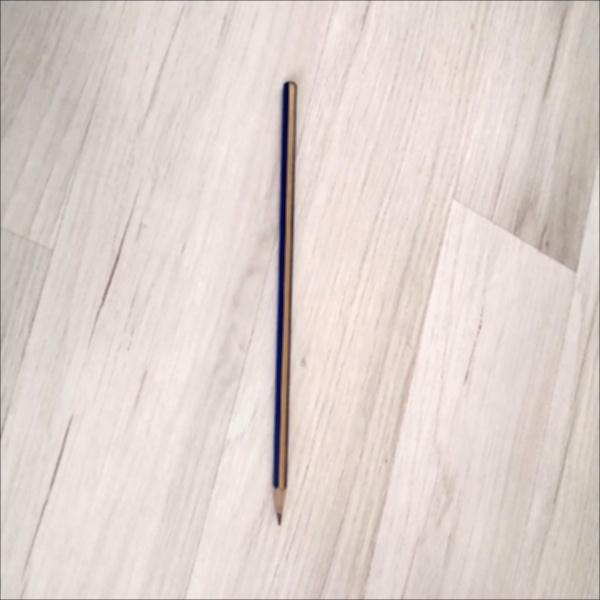pencil: (264, 74, 305, 529)
